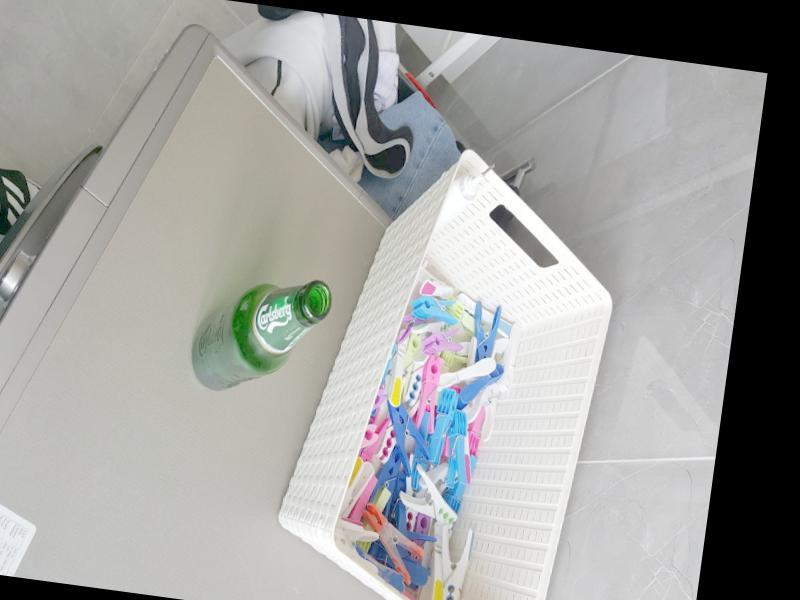Beer: (185, 263, 331, 401)
